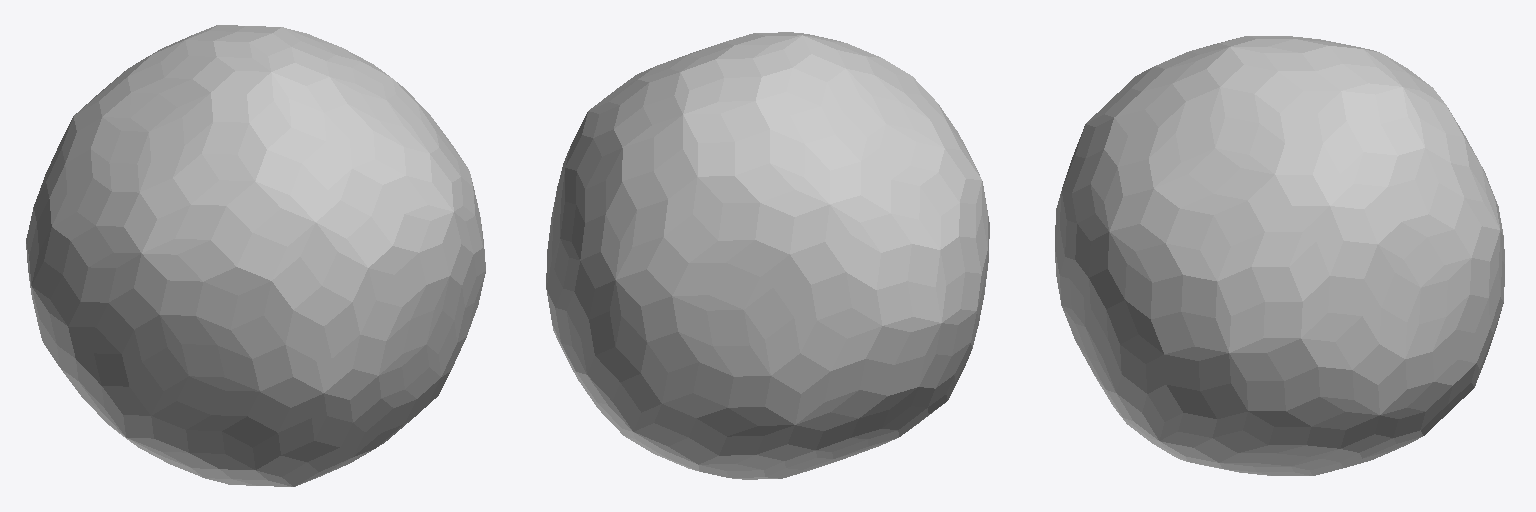
Rendered from Zono-24_From_Truncated_CubOctahedron.obj.
3 views of the same model, side by side, from view 1: azimuth 30°, elevation 25°; view 2: azimuth 150°, elevation 25°; view 3: azimuth 270°, elevation 25° (orthographic).
Visible parts, largest first — view 1: Zono-24_from_Truncated_CubOctahedron; view 2: Zono-24_from_Truncated_CubOctahedron; view 3: Zono-24_from_Truncated_CubOctahedron.
Part boxes in pixels (bbox=[...]): Zono-24_from_Truncated_CubOctahedron: bbox=[26, 25, 485, 486]; Zono-24_from_Truncated_CubOctahedron: bbox=[546, 32, 989, 479]; Zono-24_from_Truncated_CubOctahedron: bbox=[1055, 36, 1504, 475].
Size of the model in its own units: 1.83 by 1.8 by 1.8.